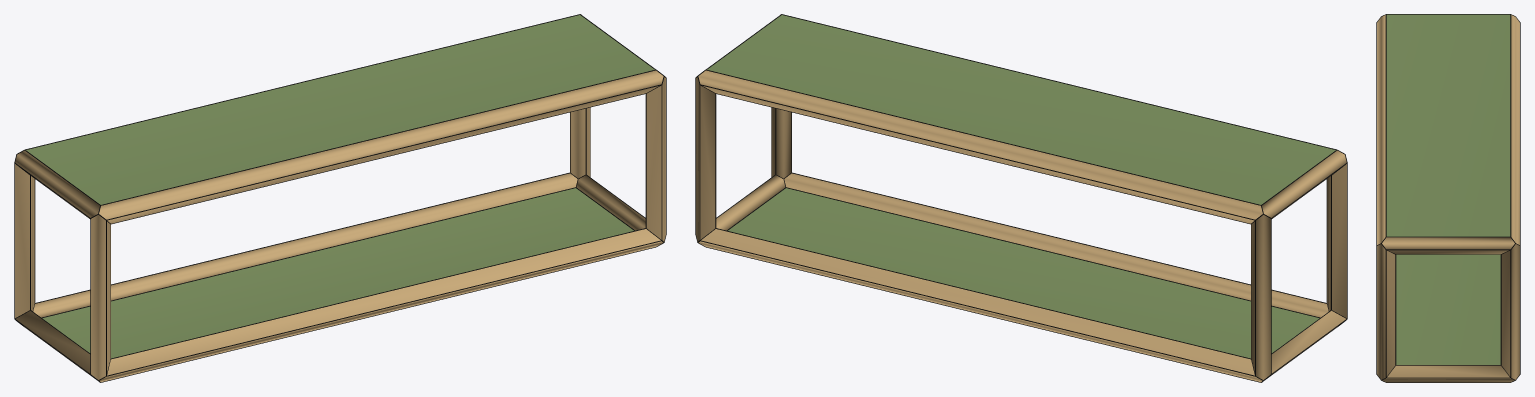
File: banc-grand.glb
The picture shows the model from 3 angles, left to right: view 1: azimuth 30°, elevation 25°; view 2: azimuth 150°, elevation 25°; view 3: azimuth 270°, elevation 25°; orthographic projection. The views are drawn at different scales.
Parts seen in each view (by area): view 1: panneau-dessus_exterieur, panneau-dessous, arete-X2, arete-X0, arete-X1, arete-Z0, arete-Z1, arete-Z2, arete-wire-X0, arete-wire-X2, arete-Y2, arete-Y0 (+7 smaller); view 2: panneau-dessus_exterieur, panneau-dessous, arete-X3, arete-X1, arete-X0, arete-Z2, arete-Z3, arete-Z0, arete-wire-X1, arete-wire-X3, arete-Y2, arete-Y0 (+8 smaller); view 3: panneau-dessus_exterieur, panneau-dessous, arete-Z1, arete-Z3, arete-Y3, arete-Y1, arete-X2, arete-X3, arete-wire-X2, arete-wire-X3, arete-wire-Y3, panneau-wire-dessus_exterieur (+4 smaller).
Boxes of the visible parts, bbox=[...] form: panneau-dessus_exterieur: bbox=[26, 15, 654, 204]; panneau-dessous: bbox=[42, 188, 633, 358]; arete-X2: bbox=[99, 70, 663, 223]; arete-X0: bbox=[99, 229, 663, 382]; arete-X1: bbox=[33, 173, 577, 317]; arete-Z0: bbox=[91, 215, 110, 379]; arete-Z1: bbox=[646, 77, 665, 241]; arete-Z2: bbox=[15, 164, 34, 317]; arete-wire-X0: bbox=[98, 228, 664, 382]; arete-wire-X2: bbox=[98, 69, 664, 224]; arete-Y2: bbox=[15, 150, 99, 218]; arete-Y0: bbox=[16, 310, 90, 374]; panneau-dessus_exterieur: bbox=[707, 15, 1335, 204]; panneau-dessous: bbox=[728, 188, 1319, 358]; arete-X3: bbox=[698, 70, 1262, 223]; arete-X1: bbox=[698, 229, 1262, 382]; arete-X0: bbox=[784, 173, 1328, 317]; arete-Z2: bbox=[1251, 215, 1270, 379]; arete-Z3: bbox=[696, 77, 715, 241]; arete-Z0: bbox=[1327, 164, 1346, 317]; arete-wire-X1: bbox=[697, 228, 1263, 382]; arete-wire-X3: bbox=[697, 69, 1260, 224]; arete-Y2: bbox=[1262, 150, 1346, 218]; arete-Y0: bbox=[1271, 310, 1345, 374]; panneau-dessus_exterieur: bbox=[1386, 14, 1510, 236]; panneau-dessous: bbox=[1396, 254, 1500, 364]; arete-Z1: bbox=[1377, 244, 1395, 379]; arete-Z3: bbox=[1501, 244, 1519, 379]; arete-Y3: bbox=[1382, 237, 1514, 254]; arete-Y1: bbox=[1382, 365, 1514, 382]; arete-X2: bbox=[1377, 15, 1385, 244]; arete-X3: bbox=[1511, 15, 1519, 244]; arete-wire-X2: bbox=[1376, 14, 1386, 245]; arete-wire-X3: bbox=[1510, 14, 1520, 245]; arete-wire-Y3: bbox=[1386, 236, 1515, 254]; panneau-wire-dessus_exterieur: bbox=[1386, 14, 1510, 236].
Bounding box in the file's own units: 1.63 × 0.4809 × 0.4309.
